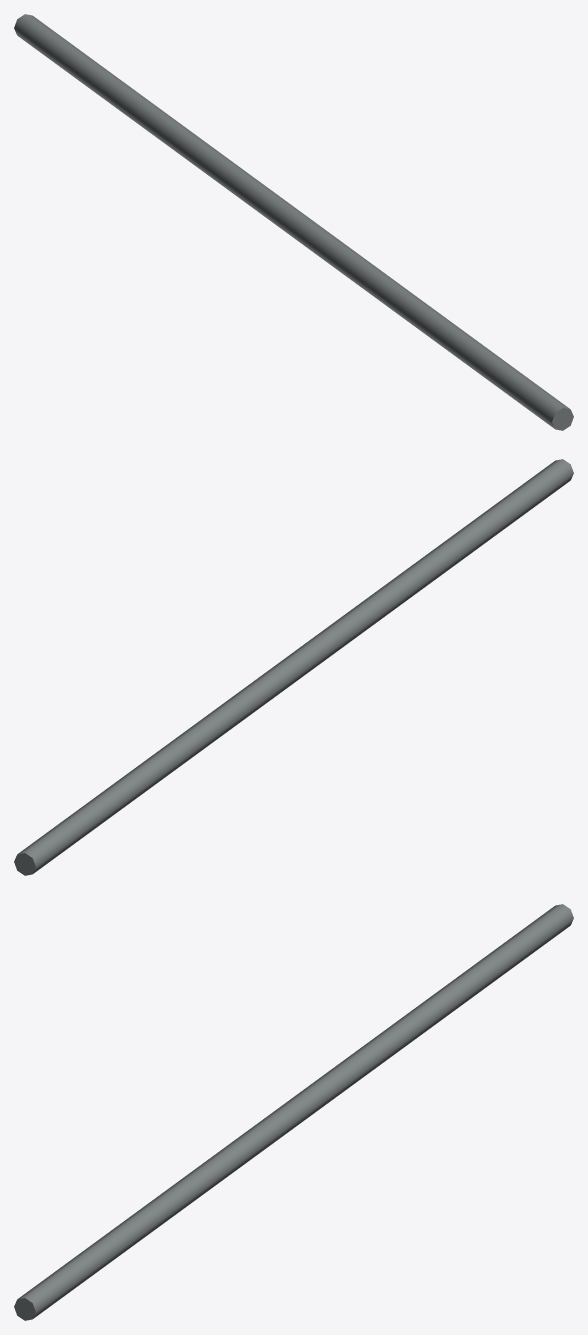
Rendered from Tubo.fbx.
3 views of the same model, one above another, from view 1: azimuth 30°, elevation 25°; view 2: azimuth 150°, elevation 25°; view 3: azimuth 330°, elevation 25° (orthographic).
Parts seen in each view (by area): view 1: Tubo; view 2: Tubo; view 3: Tubo.
Boxes of the visible parts, x1=… form: Tubo: x1=14, y1=14, x2=573, y2=430; Tubo: x1=14, y1=459, x2=573, y2=875; Tubo: x1=14, y1=904, x2=573, y2=1320.
Bounding box in the file's own units: 1.28 × 1.28 × 54.43.
1 material, 1 textured.
